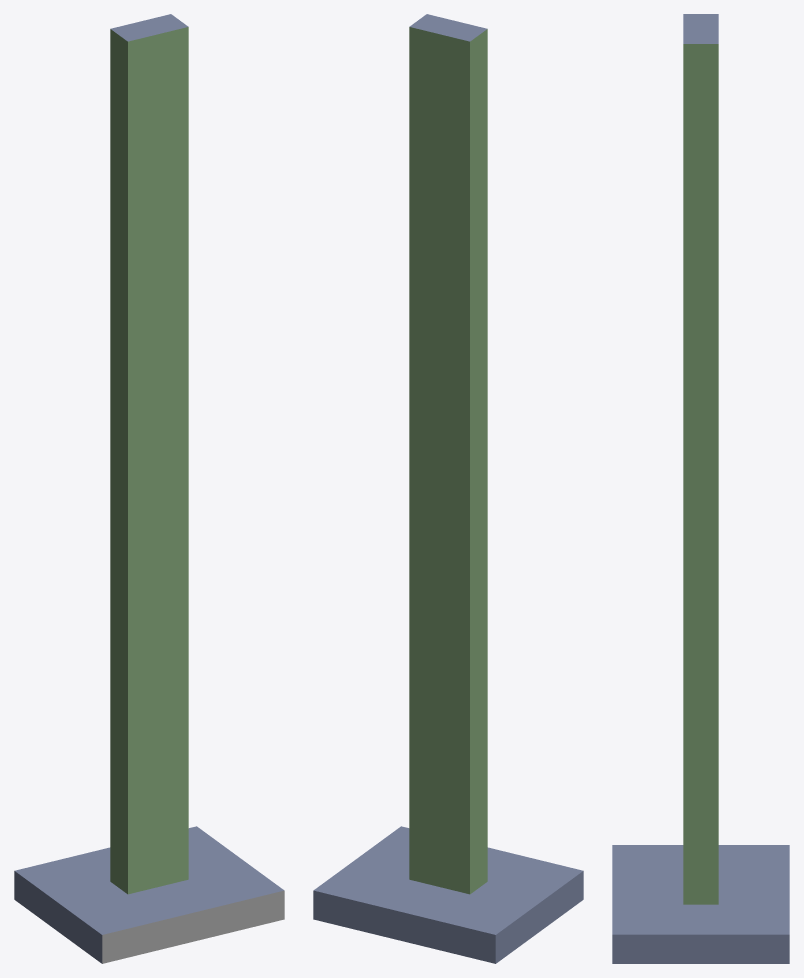
Rendered from Soundbar.fbx.
The picture shows the model from 3 angles, left to right: view 1: azimuth 30°, elevation 25°; view 2: azimuth 150°, elevation 25°; view 3: azimuth 270°, elevation 25°; orthographic projection.
Visible parts, largest first — view 1: Soundbar; view 2: Soundbar; view 3: Soundbar.
Part boxes in pixels (x1,y1,x2,y2): Soundbar: [14, 14, 284, 963]; Soundbar: [313, 14, 583, 963]; Soundbar: [612, 14, 789, 963].
Bounding box in the file's own units: 1.2 × 5.54 × 1.
